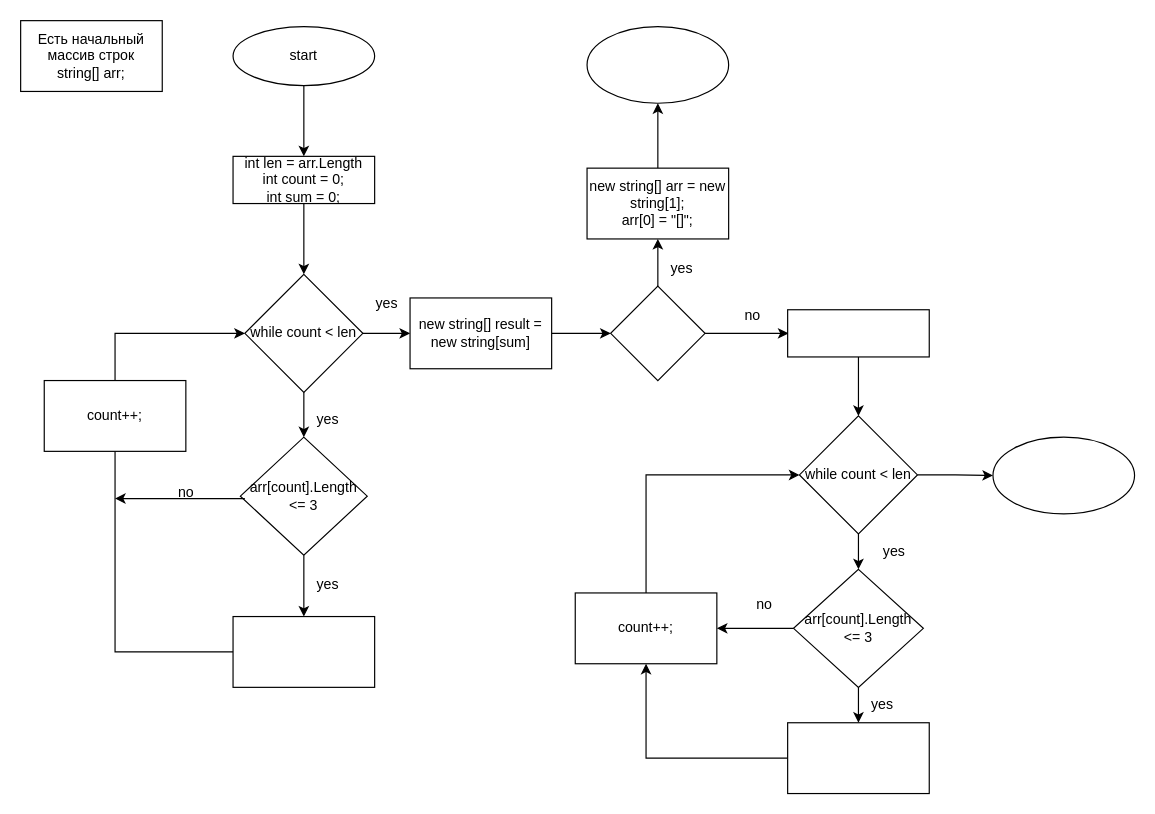
This 1155x814 diagram has some shape labels left out. The centre of each missing label's shape, as x and y in pixels:
"int len = arr.Length int count = 0; int k = 0" goes at (857,333).
"result[k] = arr[count]; k++;" goes at (857,758).
"return arr;" goes at (657,64).
"return result;" goes at (1063,475).
"sum += 1;" goes at (303,651).
"sum == 0" goes at (657,333).
